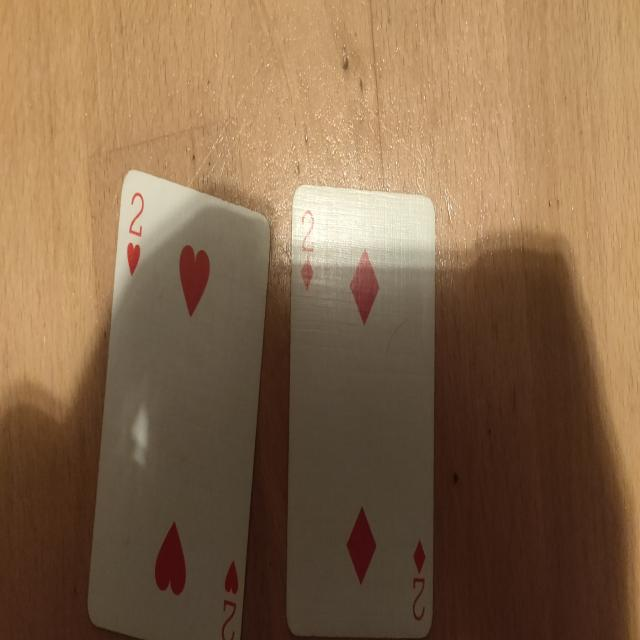Diamond: (346, 506, 376, 586), (350, 249, 380, 325), (301, 256, 314, 290), (414, 539, 426, 574)
Heart: (155, 521, 186, 596), (179, 245, 210, 317), (127, 242, 140, 276), (225, 561, 238, 594)
